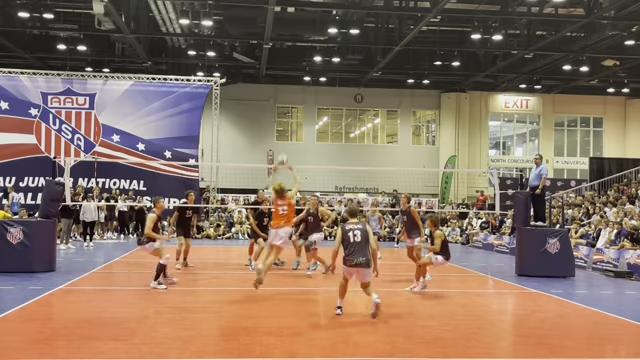Player: (330, 206, 380, 318), (138, 197, 175, 288), (296, 195, 333, 276), (400, 194, 426, 290), (170, 190, 198, 269), (418, 214, 450, 266), (249, 197, 270, 270), (366, 199, 384, 242), (291, 236, 303, 269), (247, 233, 255, 267)
Set: (250, 152, 301, 291)
ball: (276, 152, 289, 169)
